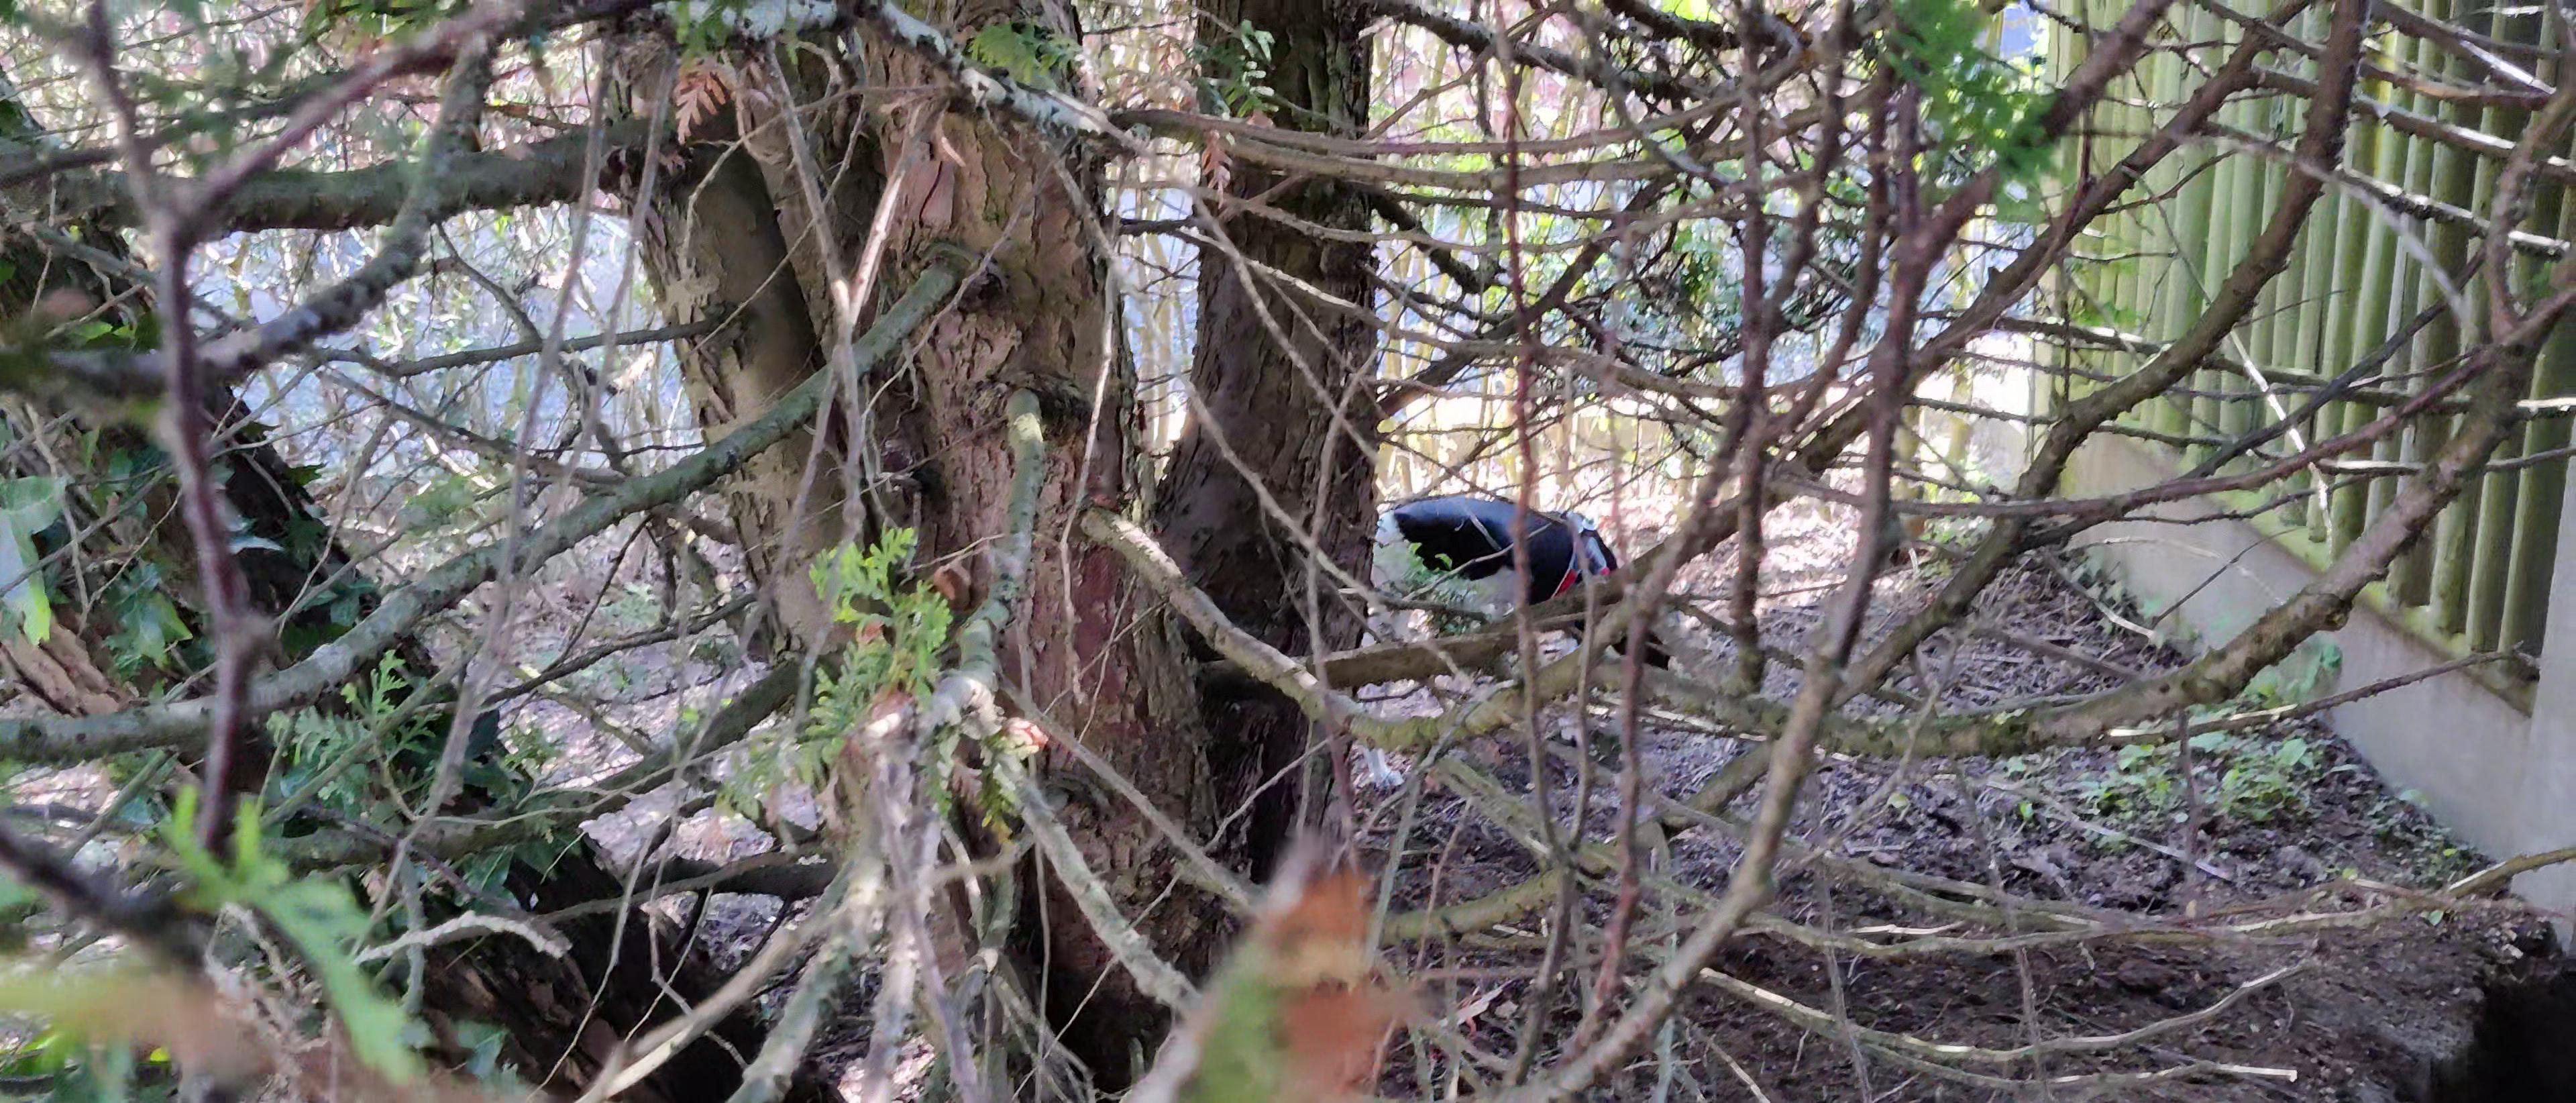Dog: (1345, 483, 1692, 799)
